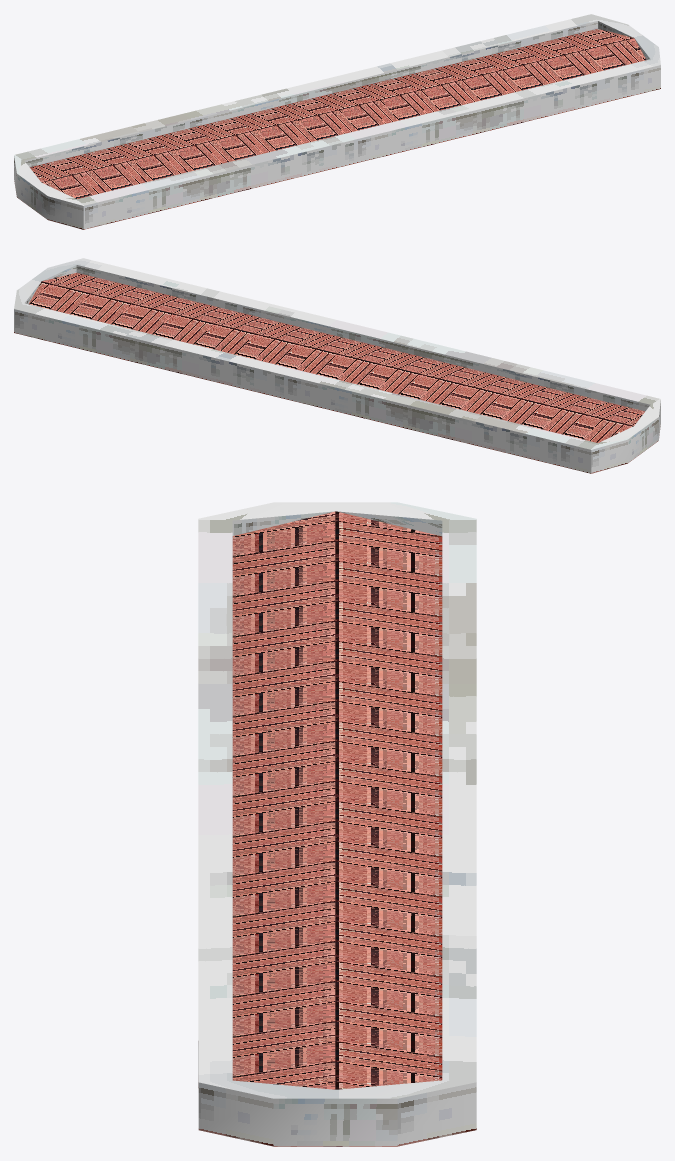
File: Environment - Prop - Mdn BRK 01 - PMMdnBRK01.glb
The picture shows the model from 3 angles, top to bottom: view 1: azimuth 30°, elevation 25°; view 2: azimuth 150°, elevation 25°; view 3: azimuth 270°, elevation 25°; orthographic projection. The views are drawn at different scales.
Visible parts, largest first — view 1: PMMDNBRK01; view 2: PMMDNBRK01; view 3: PMMDNBRK01.
Part boxes in pixels (left/top/right/bottom): PMMDNBRK01: left=14, top=14, right=660, bottom=229; PMMDNBRK01: left=14, top=258, right=660, bottom=473; PMMDNBRK01: left=198, top=502, right=476, bottom=1146.
Size of the model in its own units: 63.89 by 2.39 by 12.6.
Materials: 1 (1 with a texture image).
